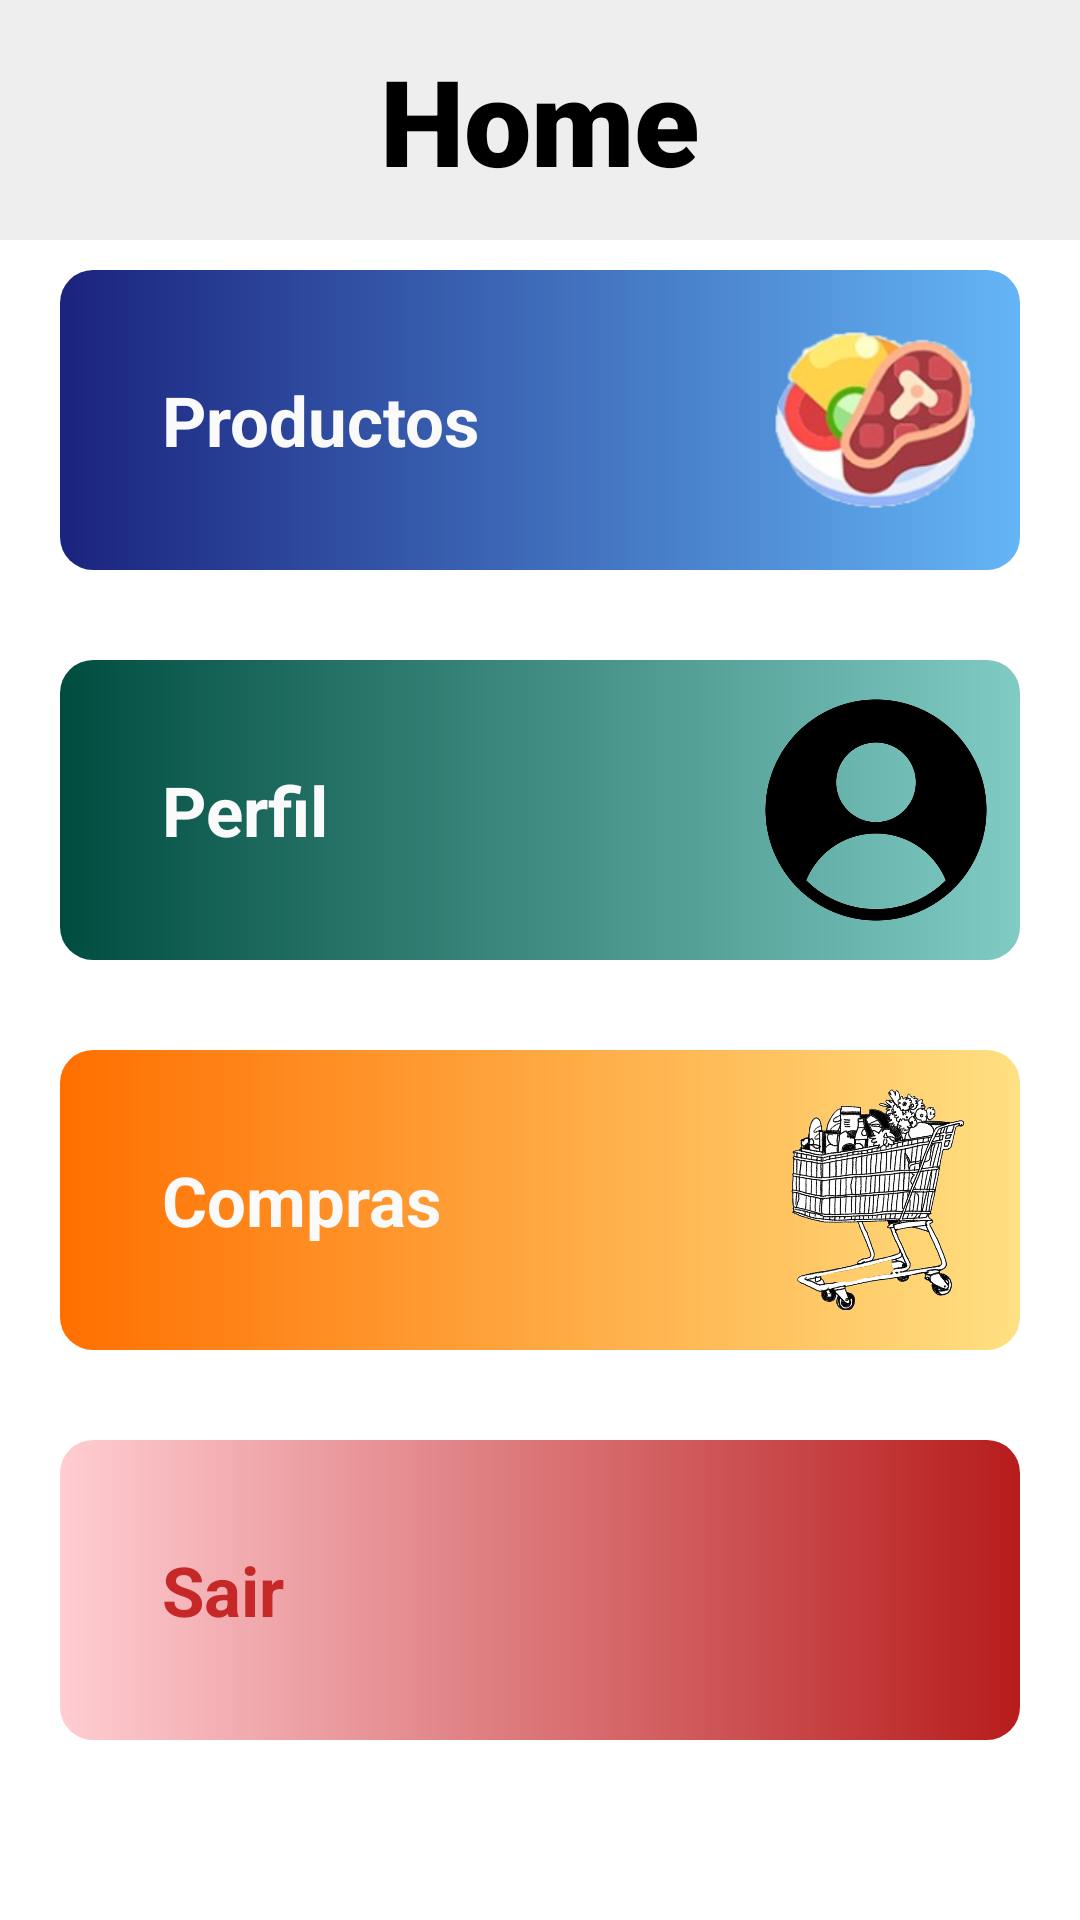

Screen size 1080 x 1920. Icon name, then its center in pixels as [x,y]:
carrinhodecompras: [876,1200]
comida: [876,420]
profile: [876,810]
